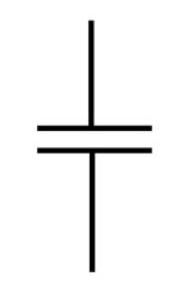Capacitor: (22, 78, 170, 193)
